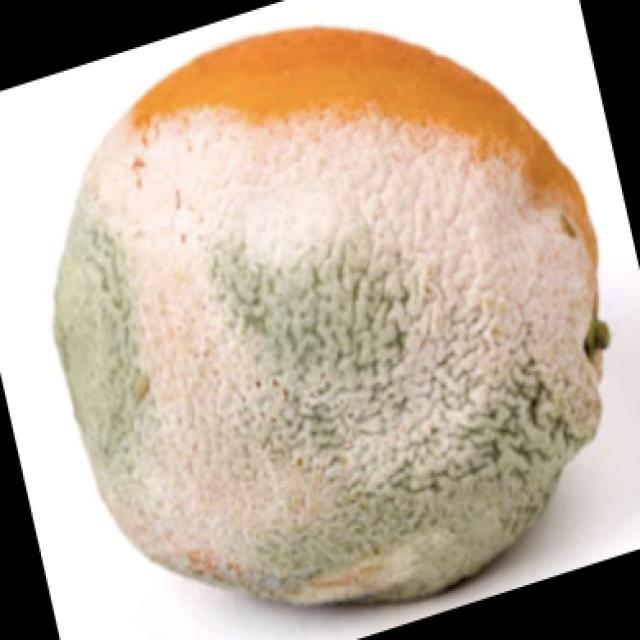sangat-busuk: (55, 28, 608, 603)
